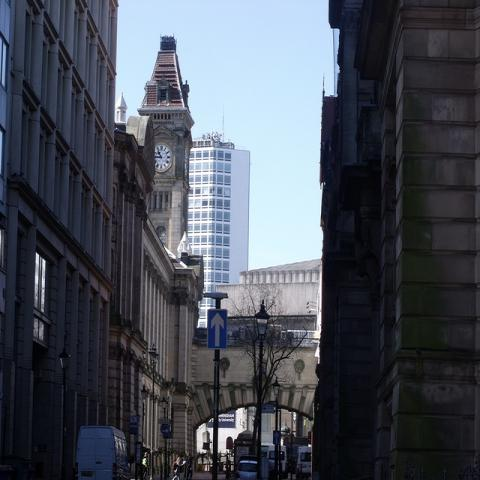car: (290, 445, 312, 478), (266, 446, 287, 479), (235, 456, 257, 480)
truck: (76, 424, 131, 480)
